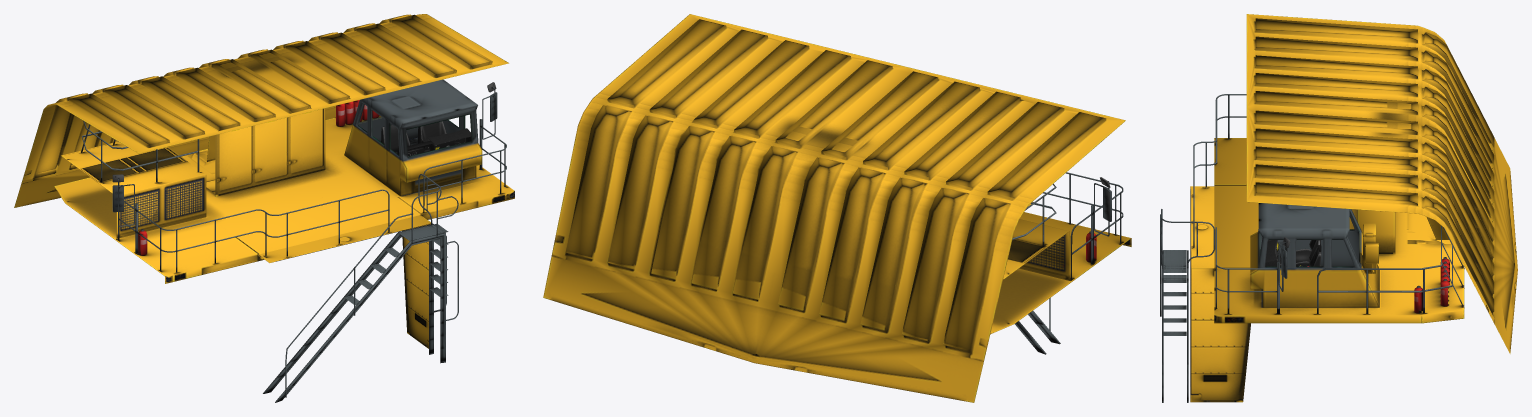
File: Komatsu930E-cab.FBX
3 renders of one model, left to right at view 1: azimuth 30°, elevation 25°; view 2: azimuth 150°, elevation 25°; view 3: azimuth 270°, elevation 25°, orthographic. The views are drawn at different scales.
Parts seen in each view (by area): view 1: Komatsu930E_cab:Cylinder; view 2: Komatsu930E_cab:Cylinder; view 3: Komatsu930E_cab:Cylinder.
Boxes of the visible parts, left/top/right/bottom form: Komatsu930E_cab:Cylinder: left=14, top=14, right=514, bottom=402; Komatsu930E_cab:Cylinder: left=543, top=14, right=1131, bottom=402; Komatsu930E_cab:Cylinder: left=1160, top=14, right=1517, bottom=402.
Bounding box in the file's own units: 89.39 × 54.65 × 69.33.
Materials: 2 (2 with a texture image).
